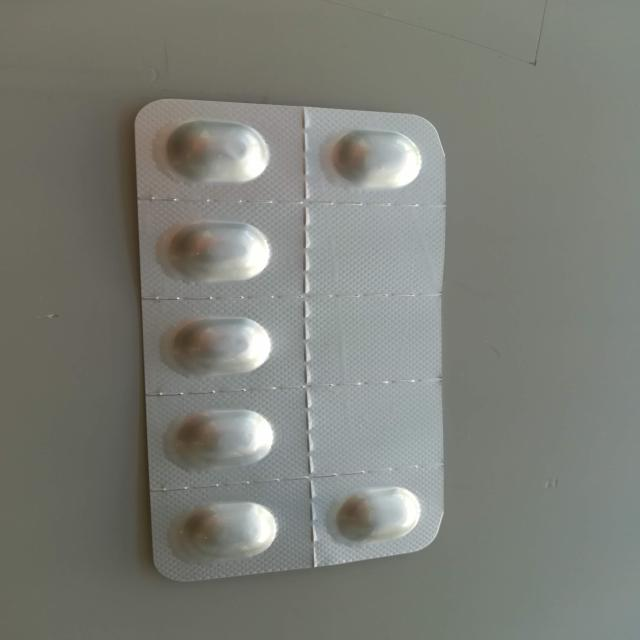Pill: (148, 116, 278, 189), (157, 405, 290, 476), (150, 219, 282, 289), (161, 310, 282, 382), (323, 122, 432, 196), (174, 498, 286, 564), (333, 478, 432, 552)
